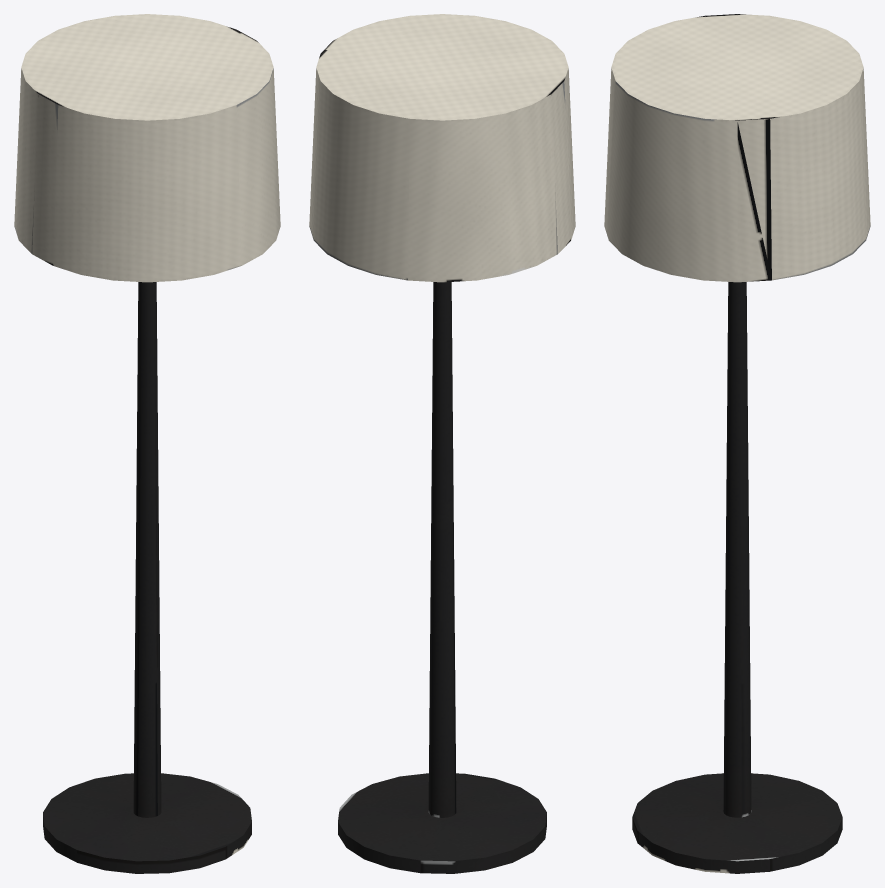
The model's file is H_FloorLamp.fbx.
The picture shows the model from 3 angles, left to right: view 1: azimuth 30°, elevation 25°; view 2: azimuth 150°, elevation 25°; view 3: azimuth 270°, elevation 25°; orthographic projection.
Parts seen in each view (by area): view 1: H_FloorLamp__H_FloorLamp_Shade, H_FloorLamp__H_FloorLamp; view 2: H_FloorLamp__H_FloorLamp_Shade, H_FloorLamp__H_FloorLamp; view 3: H_FloorLamp__H_FloorLamp_Shade, H_FloorLamp__H_FloorLamp.
Part boxes in pixels (bbox=[...]): H_FloorLamp__H_FloorLamp_Shade: bbox=[14, 14, 280, 282]; H_FloorLamp__H_FloorLamp: bbox=[43, 282, 251, 873]; H_FloorLamp__H_FloorLamp_Shade: bbox=[309, 14, 575, 282]; H_FloorLamp__H_FloorLamp: bbox=[338, 282, 546, 873]; H_FloorLamp__H_FloorLamp_Shade: bbox=[604, 14, 870, 282]; H_FloorLamp__H_FloorLamp: bbox=[632, 282, 842, 873].
Size of the model in its own units: 190 by 600 by 190.
1 material, 1 textured.
